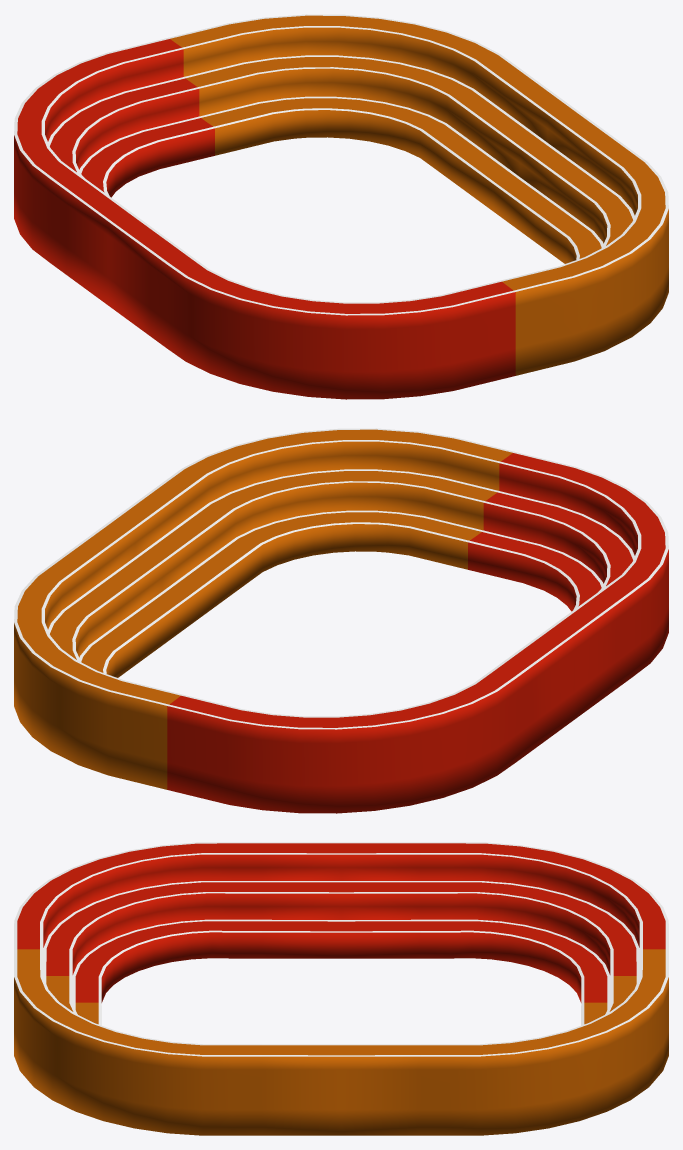
File: tribuna.fbx
The picture shows the model from 3 angles, top to bottom: view 1: azimuth 30°, elevation 25°; view 2: azimuth 150°, elevation 25°; view 3: azimuth 270°, elevation 25°; orthographic projection. The views are drawn at different scales.
Parts seen in each view (by area): view 1: Tribuna; view 2: Tribuna; view 3: Tribuna.
Boxes of the visible parts, <box> form: Tribuna: <box>14,14,668,399</box>; Tribuna: <box>14,428,668,813</box>; Tribuna: <box>14,842,668,1135</box>.
Size of the model in its own units: 1731 by 300 by 2234.
